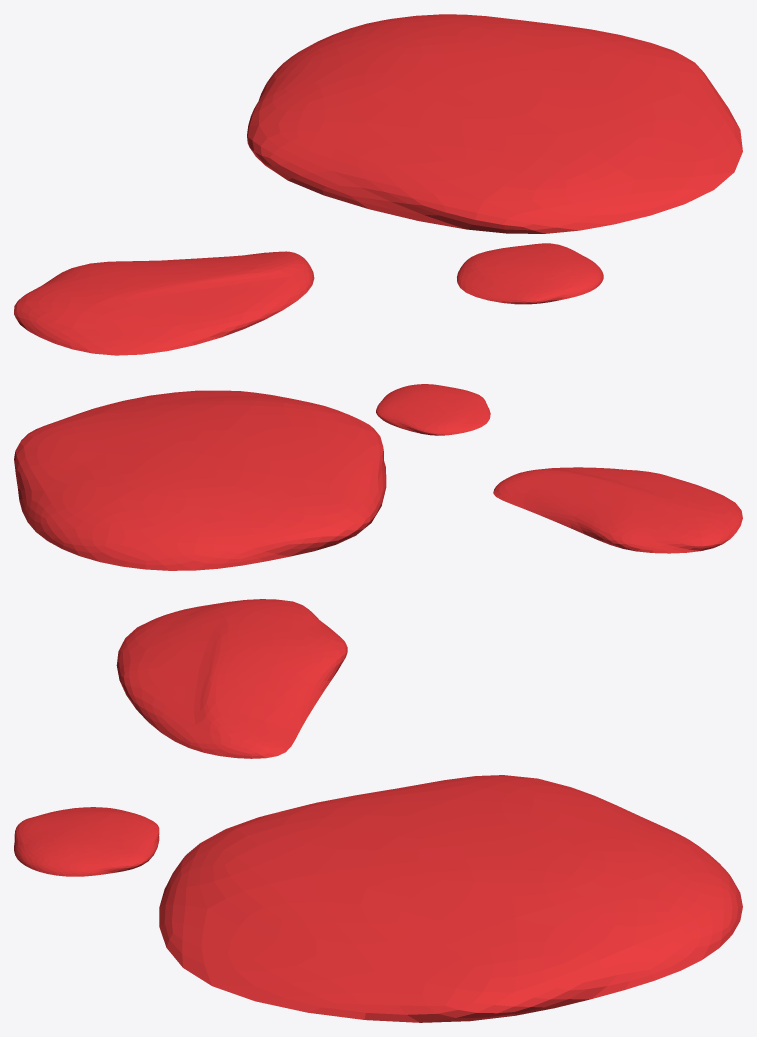
File: Puddle.fbx
3 views of the same model, one above another, from view 1: azimuth 30°, elevation 25°; view 2: azimuth 150°, elevation 25°; view 3: azimuth 270°, elevation 25° (orthographic). The views are drawn at different scales.
Parts seen in each view (by area): view 1: Icosphere; view 2: Icosphere; view 3: Icosphere.
Boxes of the visible parts, x1=… form: Icosphere: x1=14, y1=14, x2=742, y2=355; Icosphere: x1=14, y1=384, x2=742, y2=570; Icosphere: x1=14, y1=599, x2=742, y2=1022.
Bounding box in the file's own units: 210 × 11.27 × 154.
